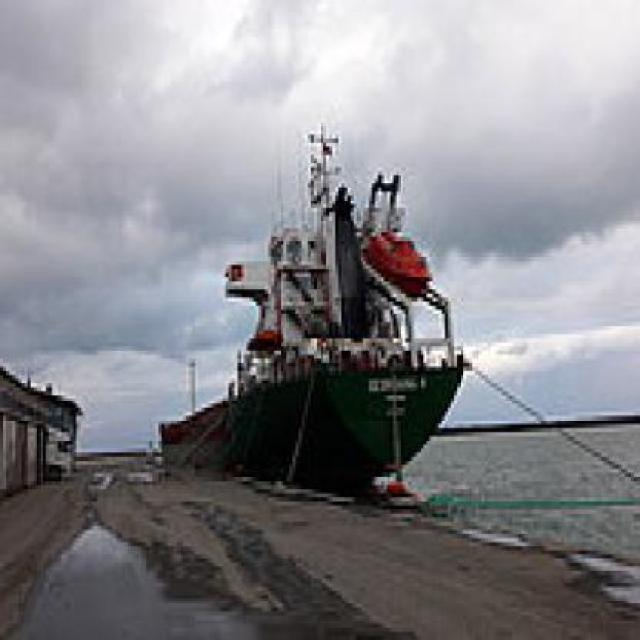container: (151, 119, 474, 511)
